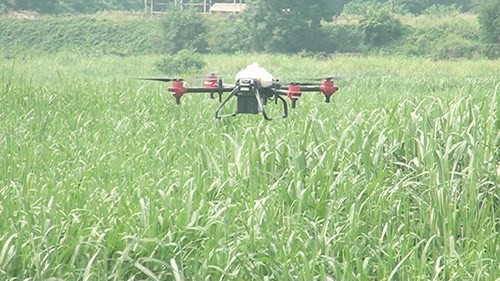maybay_khongnguoilai: (130, 61, 344, 122)
